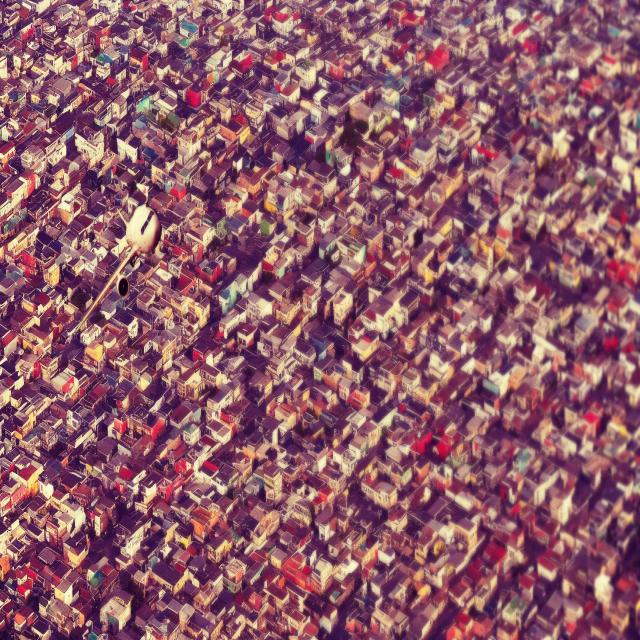airplane: (77, 205, 163, 329)
